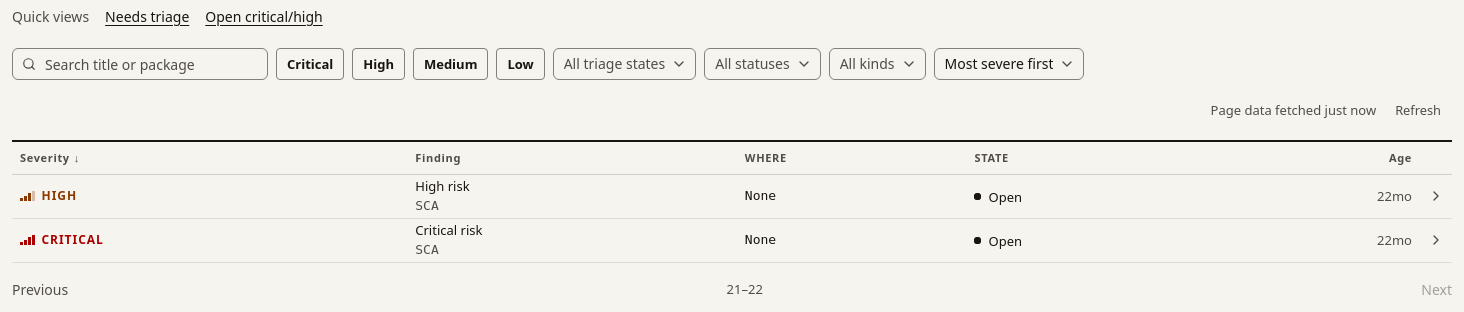
FindingsDashboard › filters findings and resets pagination after a filter changes
The image size is (1464, 312).
Expected: the link "High risk" is shown, left=415, top=177, right=470, bottom=195
Step 1. Click the button "Critical" → (310, 64), box left=276, top=48, right=344, bottom=80
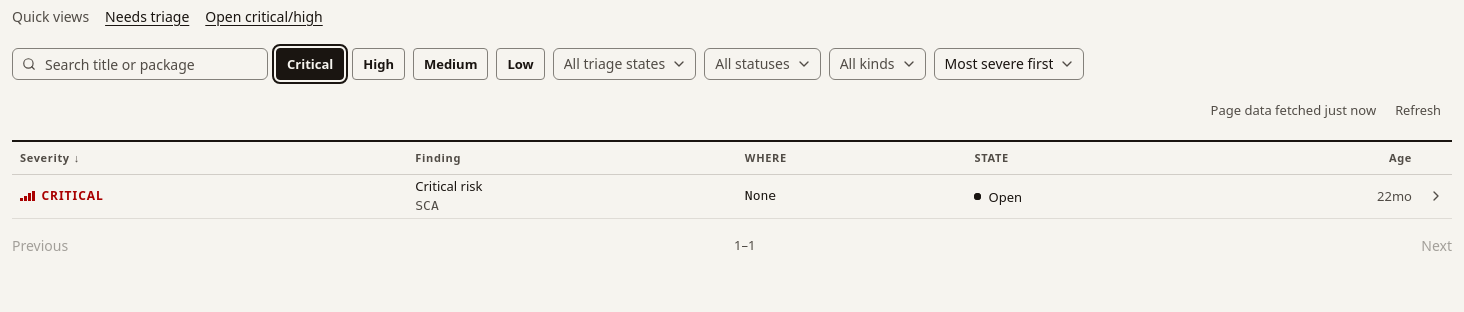
Expected: the link "Critical risk" is shown, left=415, top=177, right=482, bottom=195
Now the link "High risk" is gone
